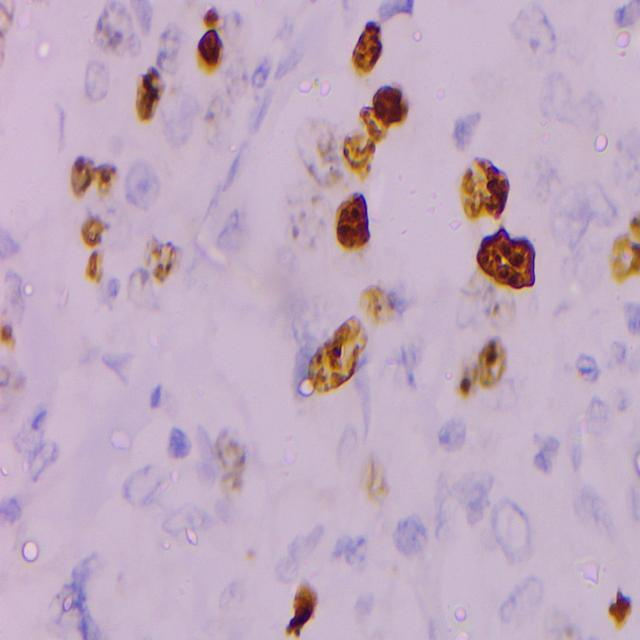Healthy cell: (552, 180, 612, 240), (493, 497, 543, 567), (509, 6, 556, 61), (606, 136, 640, 212), (494, 576, 538, 630), (276, 526, 317, 581), (430, 419, 470, 472), (536, 60, 567, 127), (573, 480, 615, 528), (159, 498, 204, 538), (124, 160, 160, 210), (162, 94, 194, 150), (10, 399, 43, 453), (564, 86, 600, 135), (516, 155, 556, 199), (396, 510, 428, 565), (119, 465, 164, 504), (527, 432, 564, 478), (579, 393, 611, 444), (216, 210, 250, 256), (163, 419, 196, 463), (567, 353, 605, 390), (443, 112, 482, 148), (0, 267, 27, 315), (19, 442, 57, 476), (83, 62, 115, 102), (606, 0, 640, 35), (333, 533, 366, 569), (602, 338, 634, 372), (0, 491, 27, 527), (620, 299, 640, 341), (0, 231, 19, 262)
cancer-cell-QiJm: (472, 226, 538, 292), (306, 322, 366, 390), (277, 193, 330, 267), (203, 62, 252, 142), (295, 125, 348, 197), (462, 152, 514, 220), (214, 430, 258, 504), (340, 125, 390, 184), (354, 443, 398, 509), (0, 0, 38, 68), (609, 214, 640, 294), (332, 194, 370, 254), (460, 356, 494, 413), (358, 280, 396, 330), (95, 1, 132, 52), (376, 84, 416, 130), (288, 581, 319, 640), (352, 20, 384, 76), (135, 64, 165, 122), (144, 234, 178, 284), (479, 284, 516, 324), (606, 583, 637, 629), (193, 24, 224, 68), (78, 209, 109, 253), (357, 106, 387, 150), (128, 263, 160, 303), (78, 247, 104, 295), (483, 339, 507, 390), (234, 534, 264, 572), (89, 159, 122, 193), (152, 23, 179, 64), (68, 153, 92, 198), (546, 604, 575, 640), (0, 361, 30, 395), (2, 319, 27, 354), (198, 3, 222, 37)
